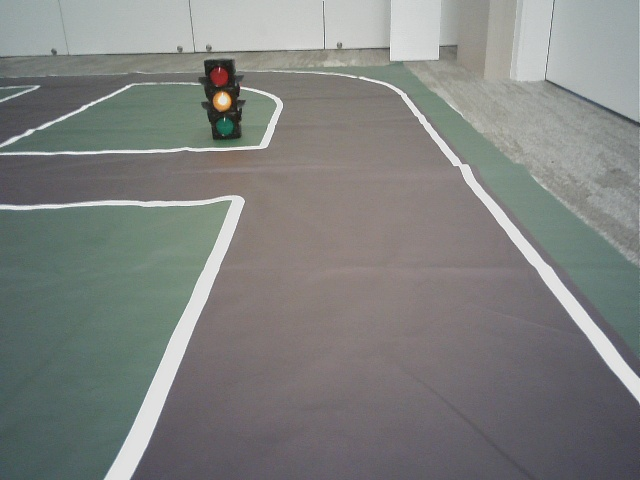yellow: (205, 59, 235, 134)
